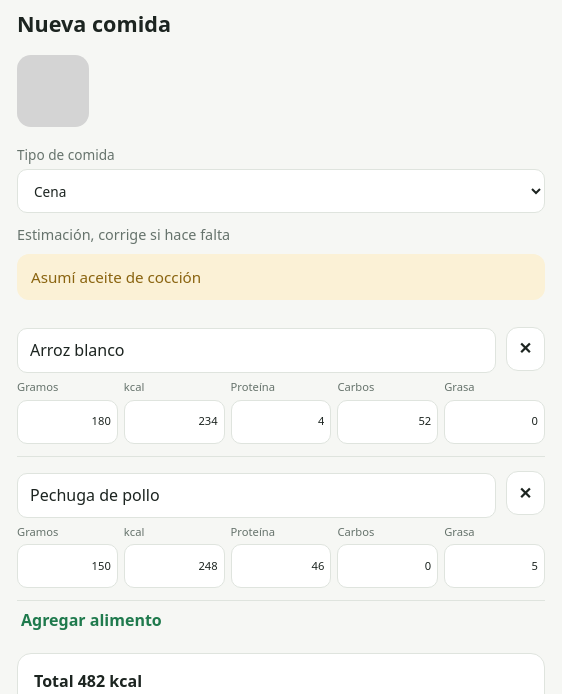
Scenario: borrar los gramos muestra 0 y nunca NaN
Check: the 1st field showing "Arroz blanco" is shown, box [17,328,496,373]
Clear the 1st field labelled "Gramos" at (67, 422), box [17,400,118,444]
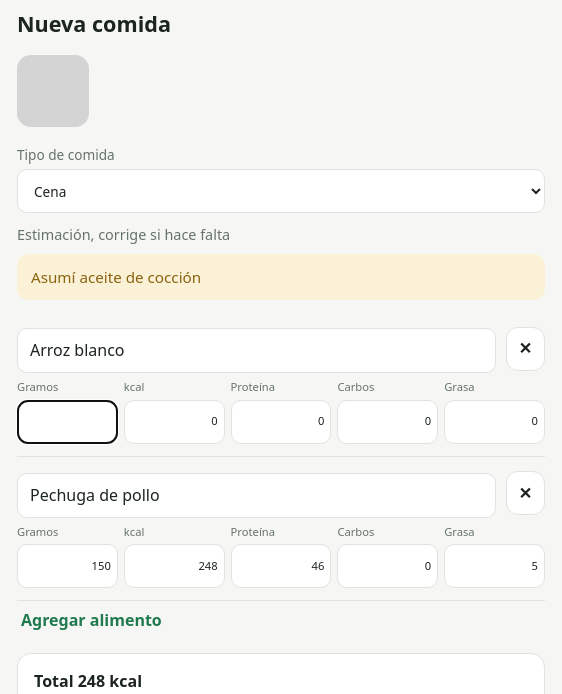
Check: the 1st field labelled "kcal" holds "0", box [124,400,225,444]
Check: the text "Total 248 kcal" is shown, box [34,670,142,692]
